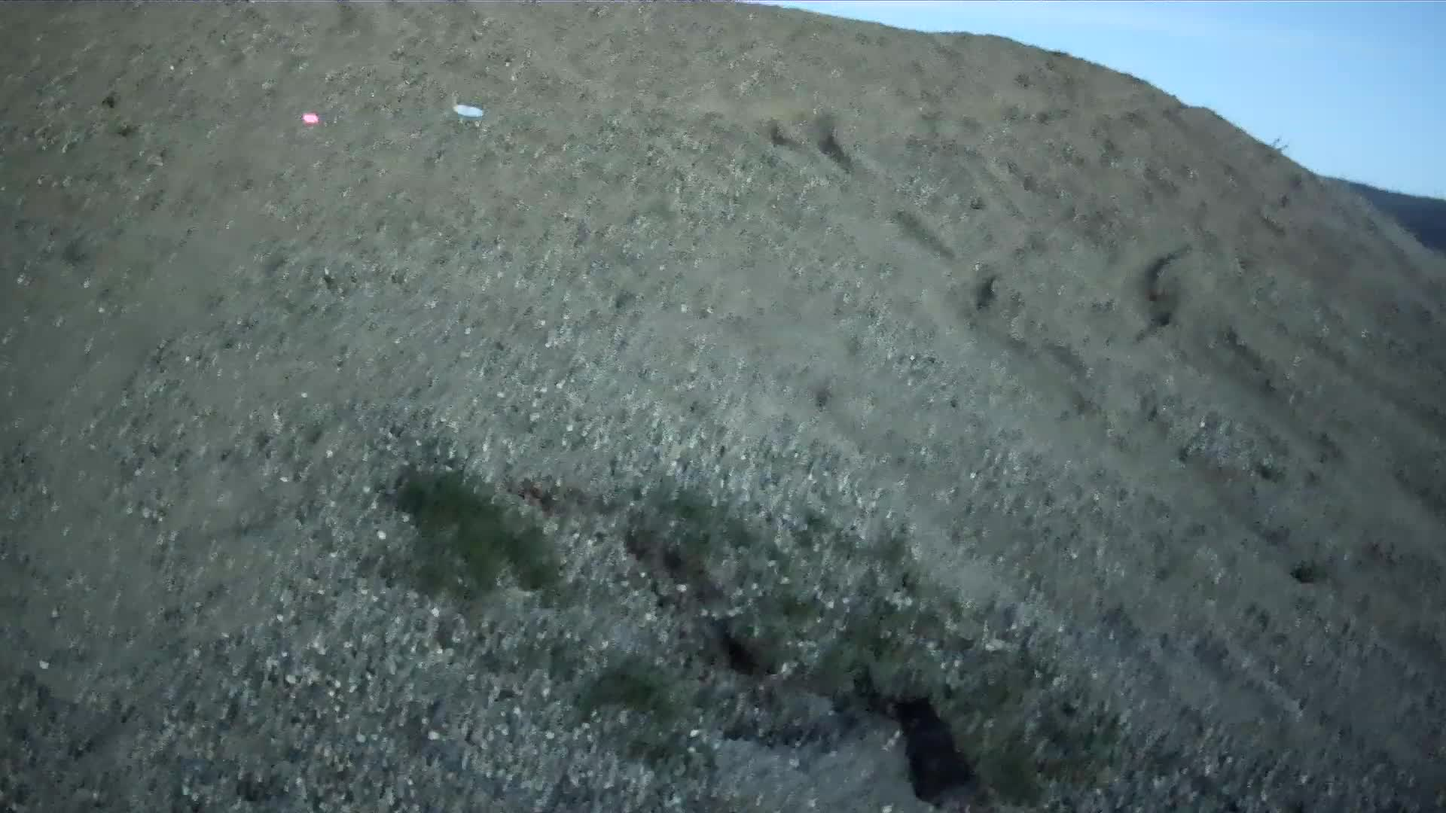Target: (453, 103, 484, 117)
